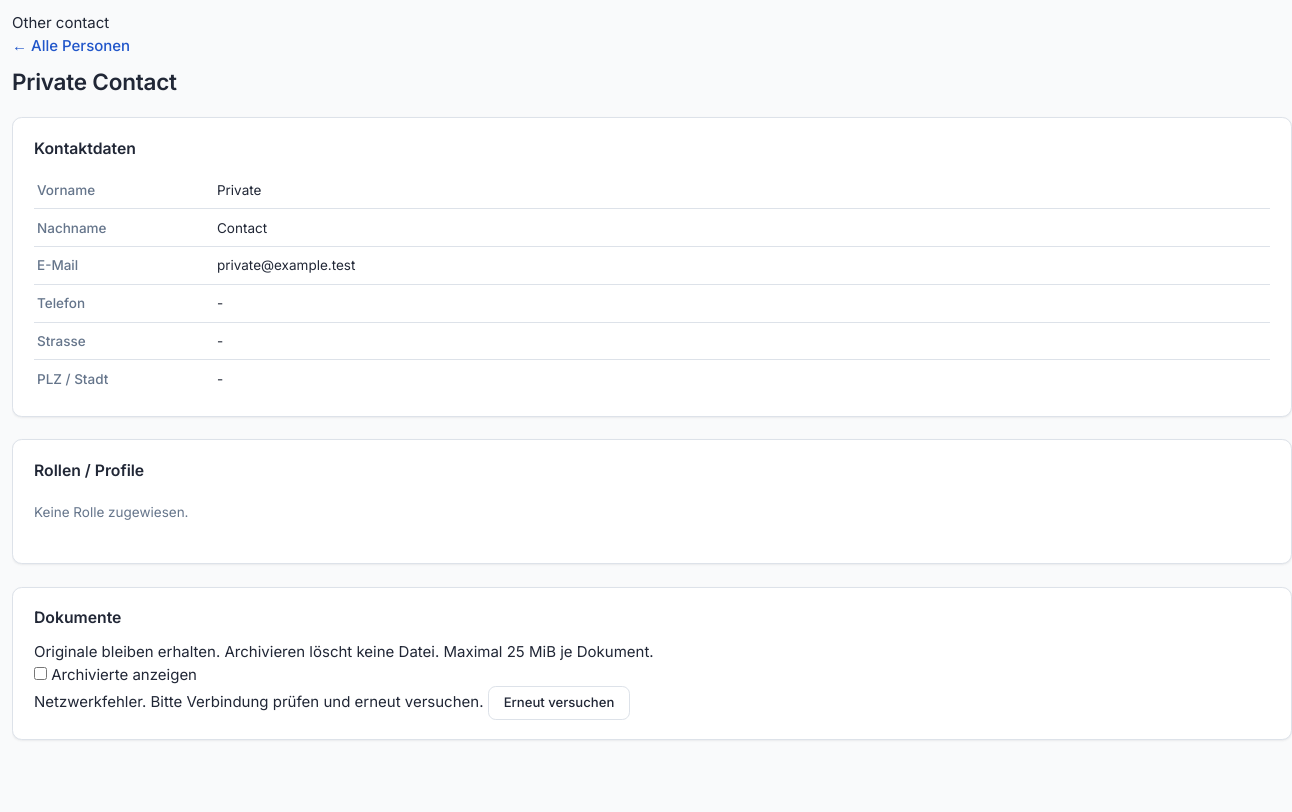
Test: clears prior contact values when the next contact is inaccessible
Expected: the heading "Private Contact" is shown, [12,68,177,94]
Click the link "Other contact" at (61, 22), box [12,13,109,32]
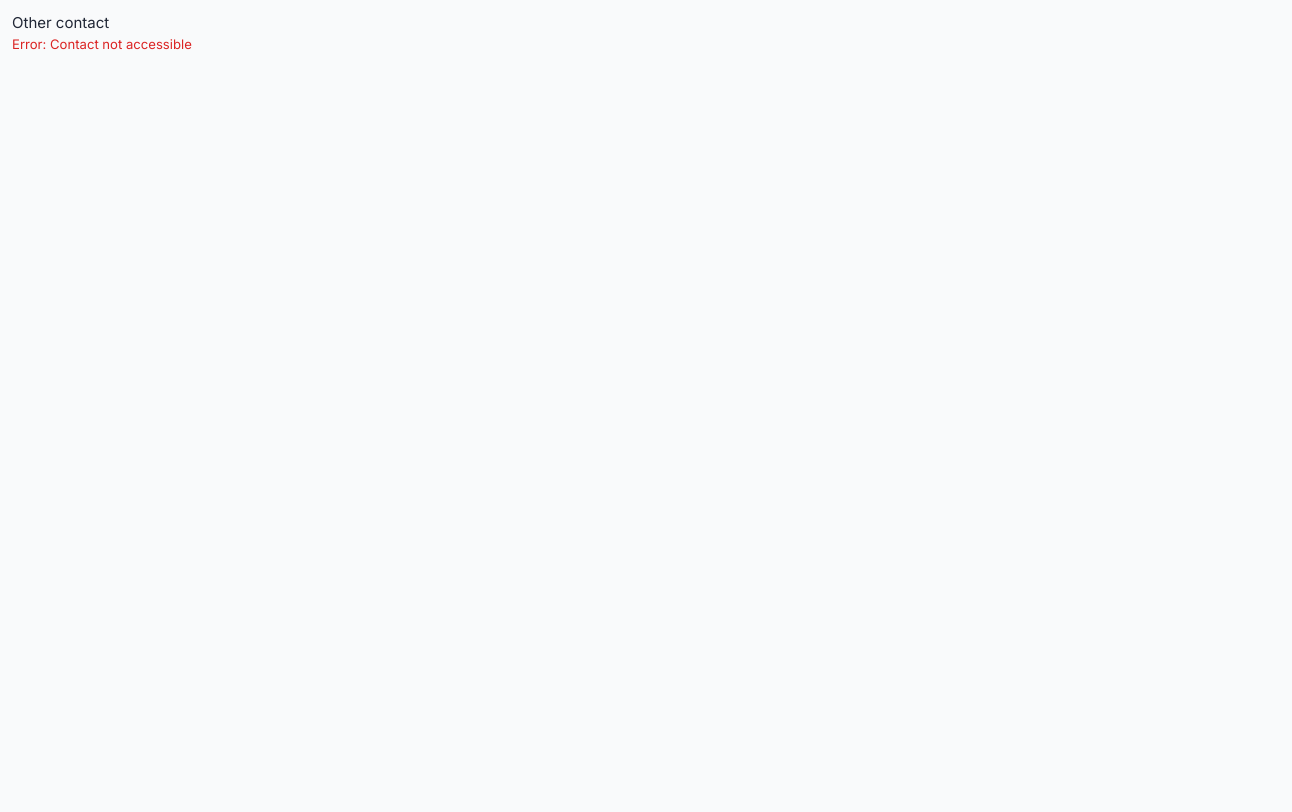
Expected: the text "Error: Contact not accessible" is shown, [12,36,192,52]
Expected: the text "private@example.test" is gone
Expected: the heading "Private Contact" is gone
